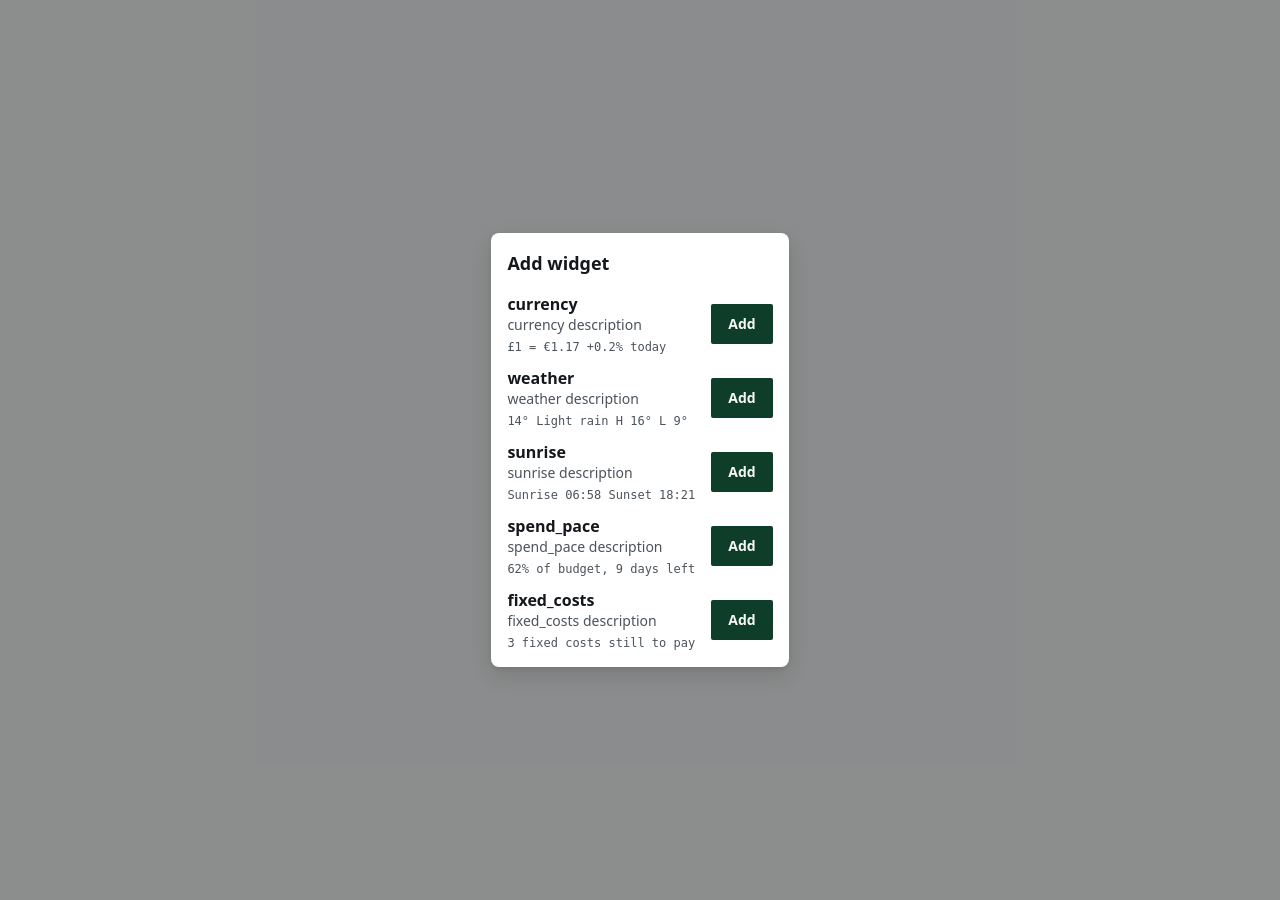
Test case: AddWidgetSheet › shows the server message in an alert when adding fails
The width and height of the screenshot is (1280, 900).
Click the button "Add" in the row of "spend_pace description" at (742, 546), box top-left (711, 526), bottom-right (773, 566)
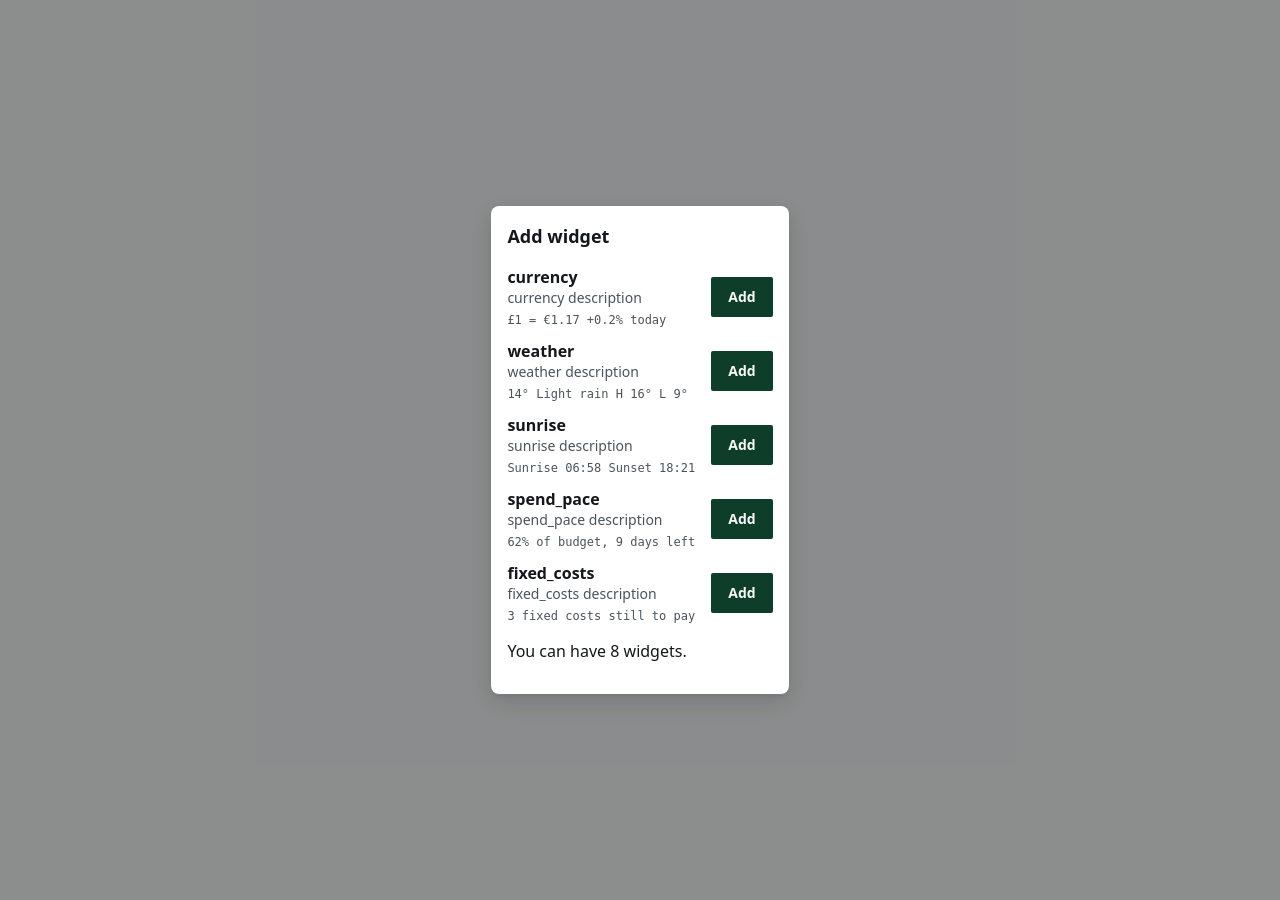
Expected: the message "You can have 8 widgets." is shown, top-left (507, 640), bottom-right (687, 662)
